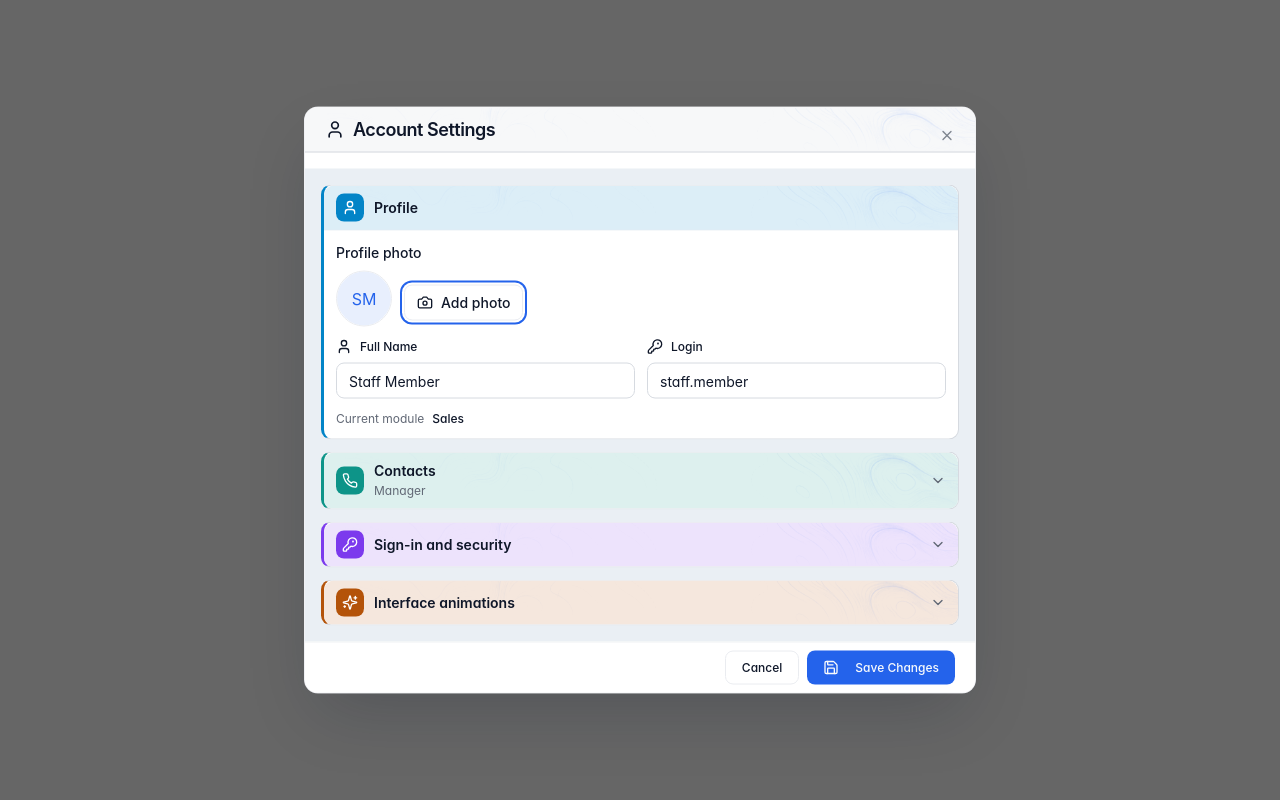
Scenario: compact account settings › blocks dismissal and repeated saves while pending, then preserves the draft after failure
This screenshot has width=1280, height=800.
Step 1. Replace the text in the field labelled "Full Name" with "Unsaved Member" → (486, 380), box [336,362,635,398]
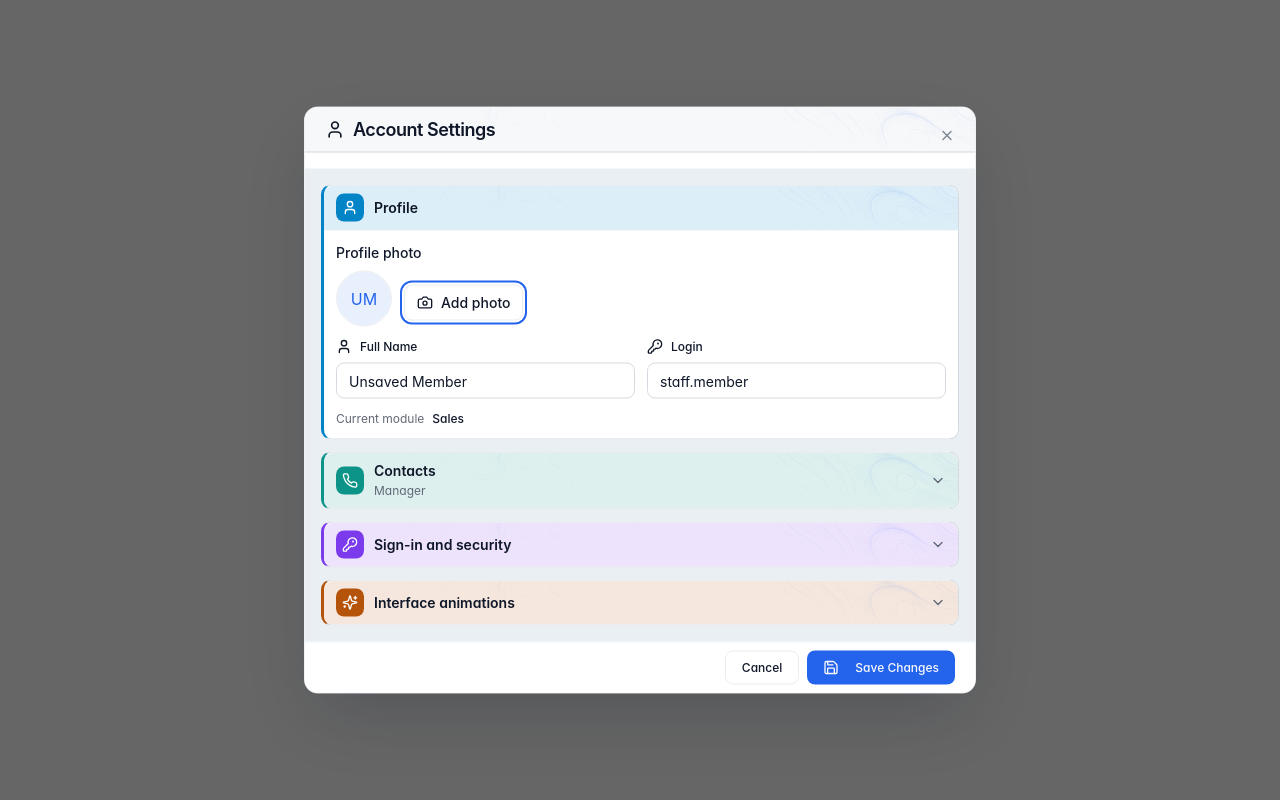
Step 2. Submit the form, box [305,168,975,692]
Step 3. Submit the form, box [305,168,975,692]
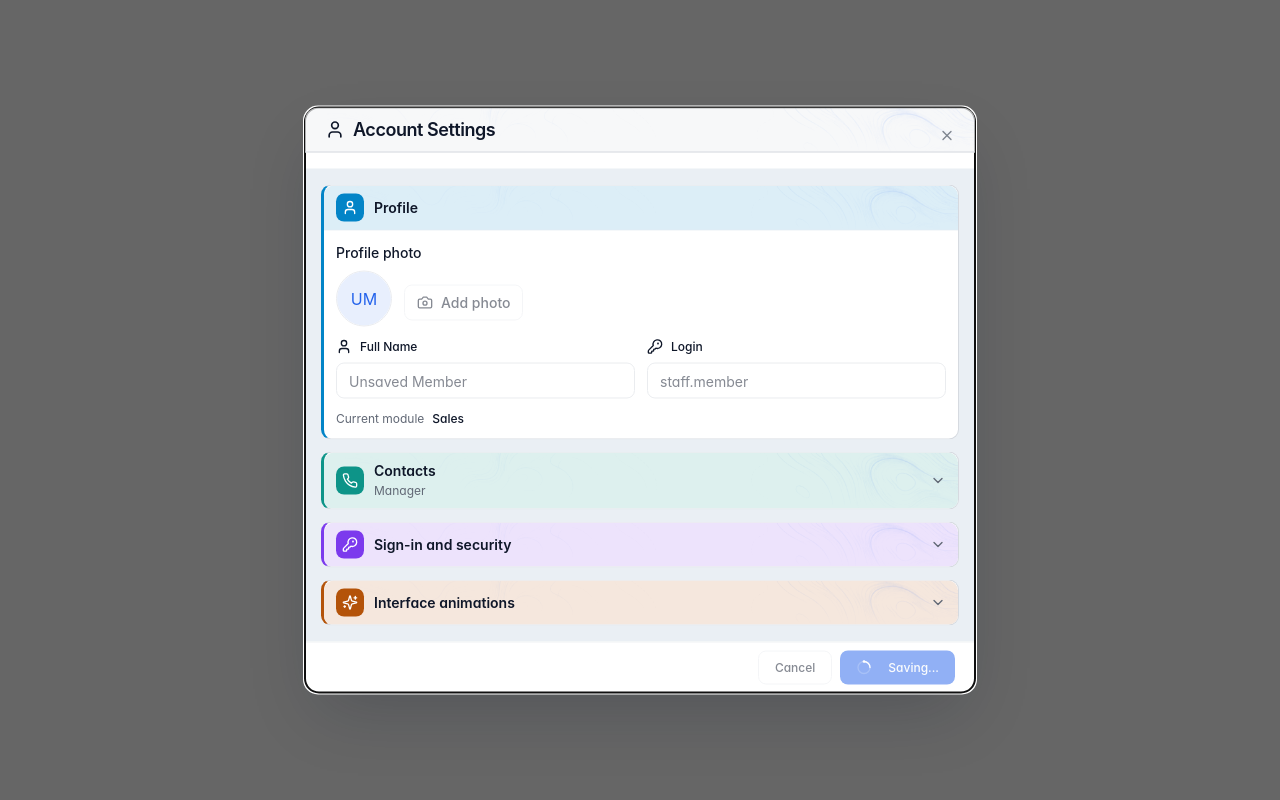
Step 4. Press Escape in the dialog, box [304,106,976,694]
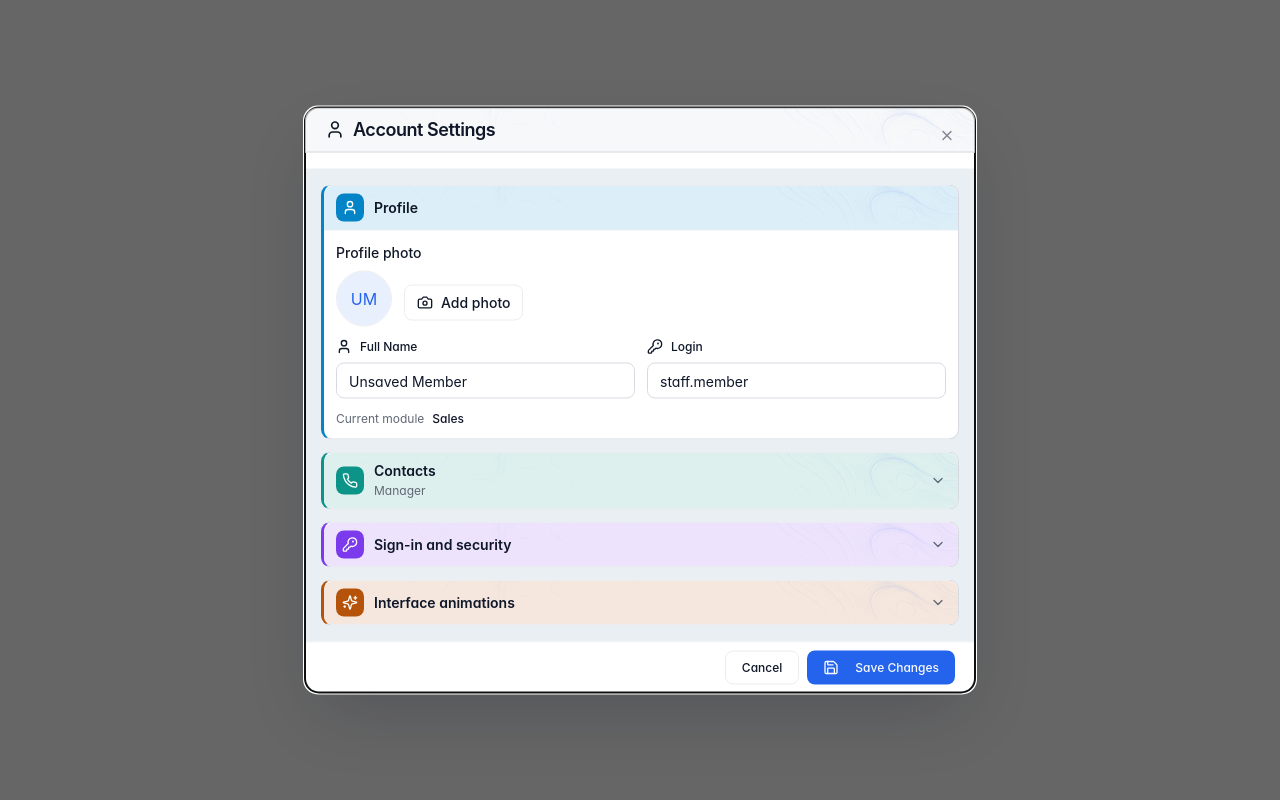
Step 5. Click the button "Cancel" → (762, 668), box [725,650,799,684]
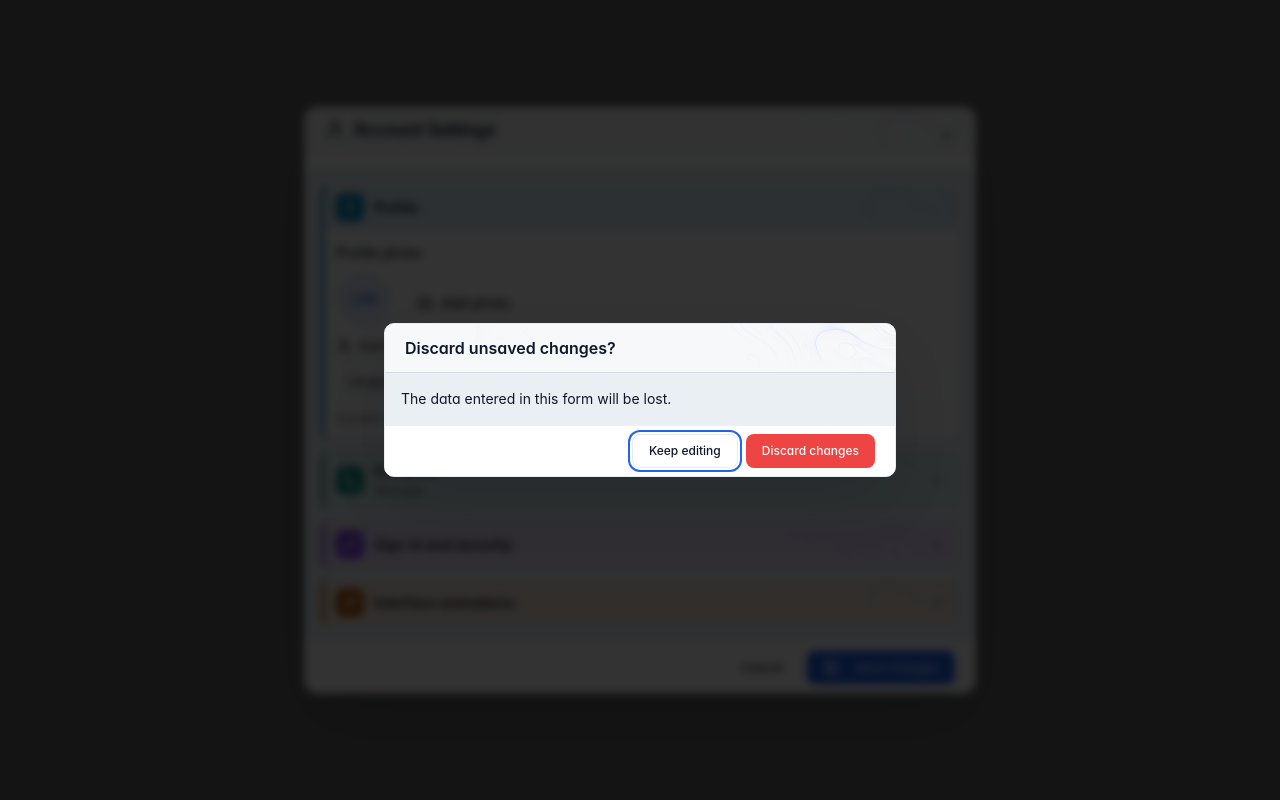
Check: the dialog that starts with "Discard unsaved changes?" is shown, box [384,323,896,477]
